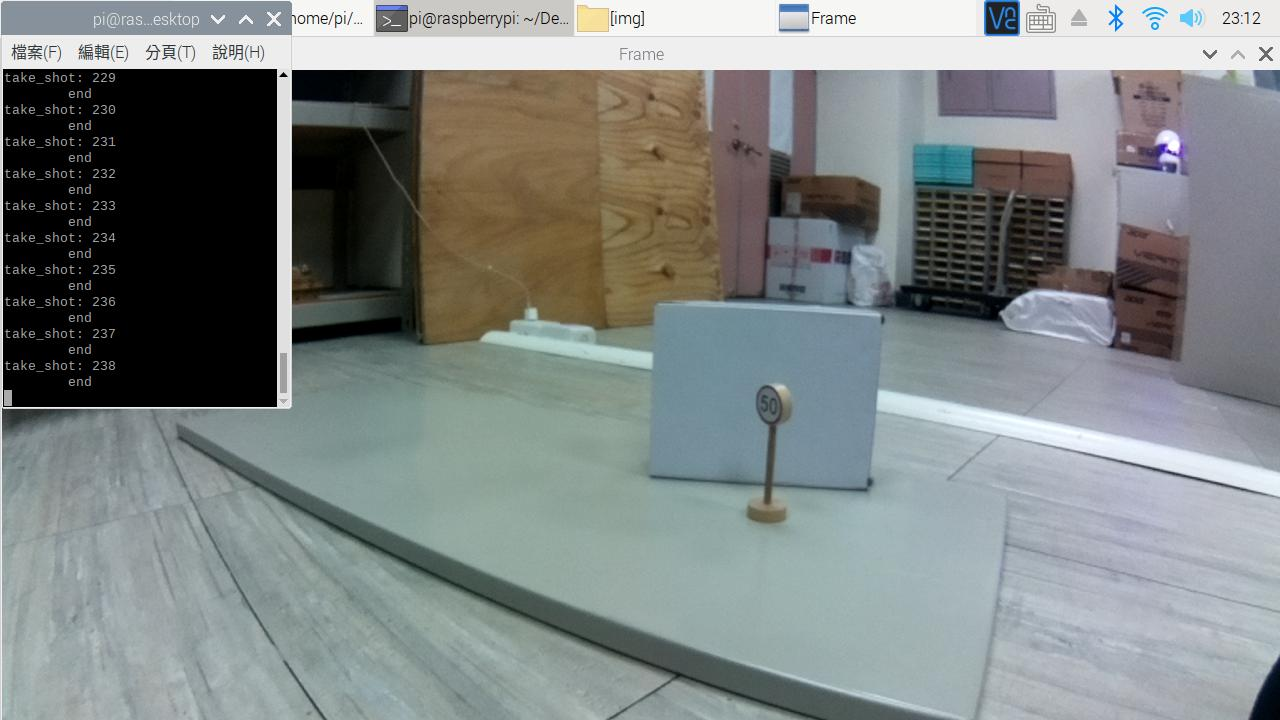Speed50: (742, 377, 801, 436)
